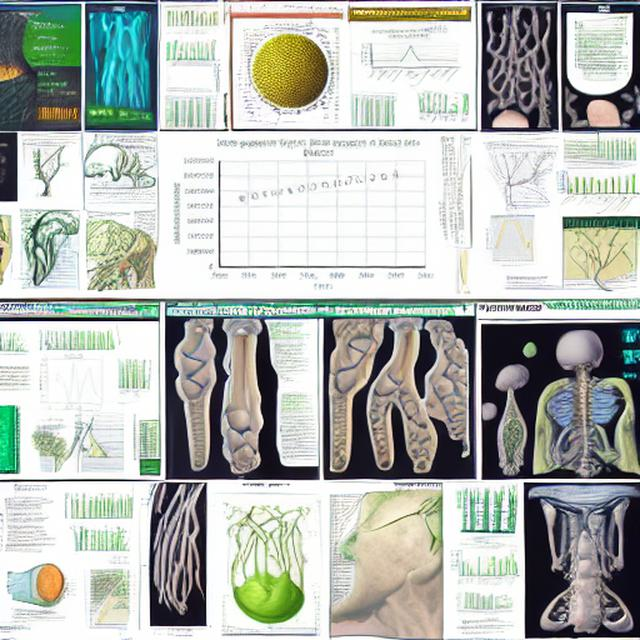Graph: (162, 134, 436, 296), (357, 27, 461, 89), (31, 352, 115, 410), (552, 162, 640, 214), (448, 540, 521, 592), (477, 212, 548, 265), (163, 2, 221, 37), (29, 100, 81, 131)
